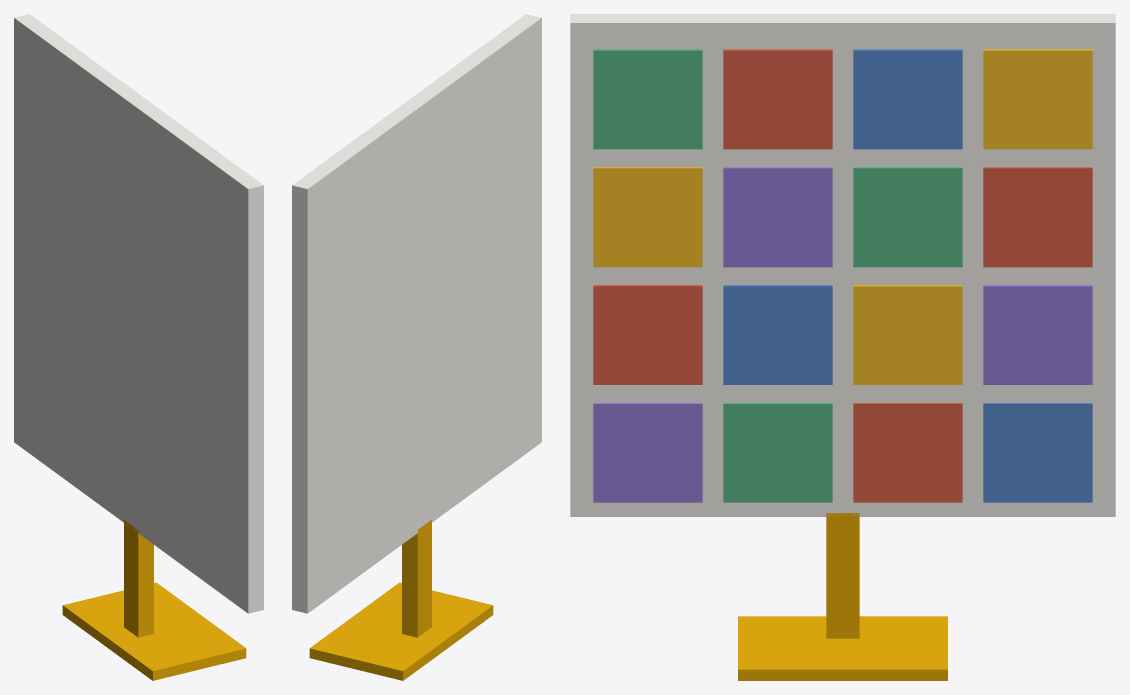
The model's file is station_transport_ausstattung_2_2.glb.
3 renders of one model, left to right at view 1: azimuth 30°, elevation 25°; view 2: azimuth 150°, elevation 25°; view 3: azimuth 270°, elevation 25°, orthographic. The views are drawn at different scales.
Visible parts, largest first — view 1: station_transport_ausstattung_2_2; view 2: station_transport_ausstattung_2_2; view 3: station_transport_ausstattung_2_2.
Part boxes in pixels (bbox=[...]): station_transport_ausstattung_2_2: bbox=[14, 14, 263, 680]; station_transport_ausstattung_2_2: bbox=[292, 14, 541, 680]; station_transport_ausstattung_2_2: bbox=[570, 14, 1115, 680].
Bounding box in the file's own units: 0.3 × 1.65 × 1.3.
